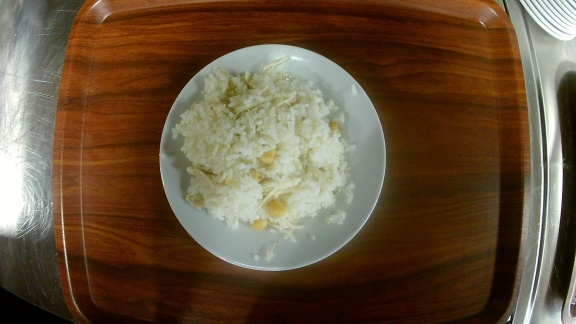nohutlupilav: (158, 44, 384, 272)
